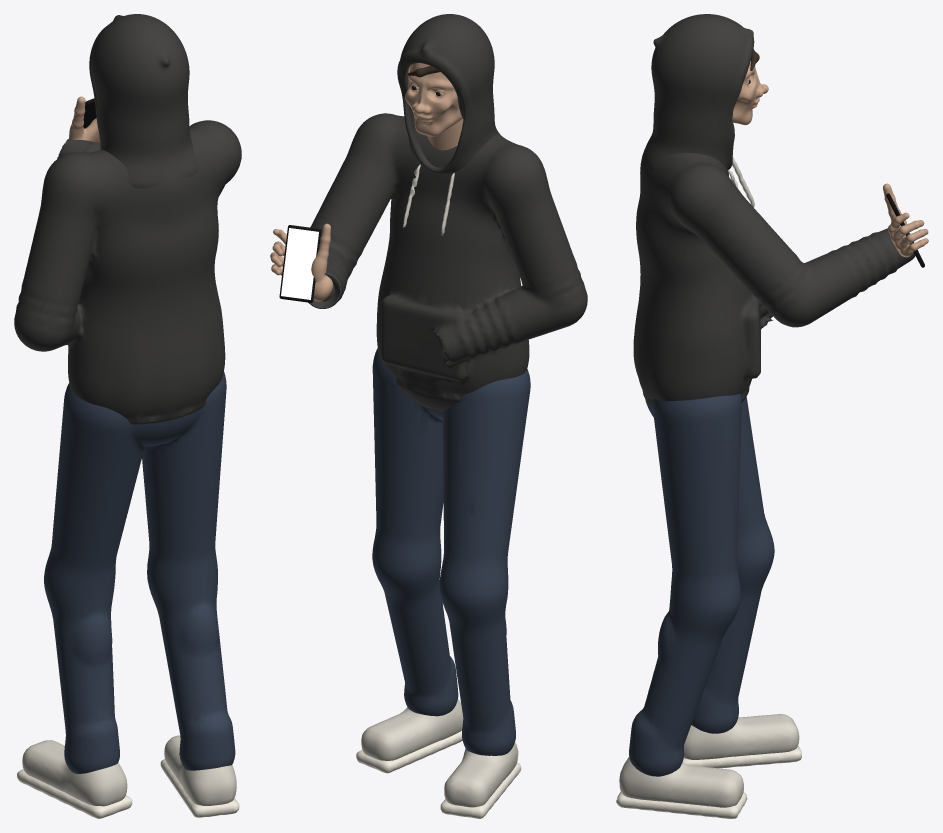
Rendered from hoodie_door.glb.
3 renders of one model, left to right at view 1: azimuth 30°, elevation 25°; view 2: azimuth 150°, elevation 25°; view 3: azimuth 270°, elevation 25°, orthographic. The views are drawn at different scales.
Parts seen in each view (by area): view 1: hoodie_door_body, hoodie_door_head, hoodie_door_hands; view 2: hoodie_door_body, hoodie_door_head, phone_screen, hoodie_door_hands; view 3: hoodie_door_body, hoodie_door_head, hoodie_door_hands.
Boxes of the visible parts, <box> form: hoodie_door_body: <box>14,120,241,818</box>; hoodie_door_head: <box>89,14,198,188</box>; hoodie_door_hands: <box>57,96,100,158</box>; hoodie_door_body: <box>310,113,587,818</box>; hoodie_door_head: <box>397,14,500,174</box>; phone_screen: <box>281,228,318,299</box>; hoodie_door_hands: <box>270,223,343,308</box>; hoodie_door_body: <box>616,124,898,818</box>; hoodie_door_head: <box>645,14,768,169</box>; hoodie_door_hands: <box>871,183,928,273</box>.
Bounding box in the file's own units: 0.5492 × 1.69 × 0.6264.
